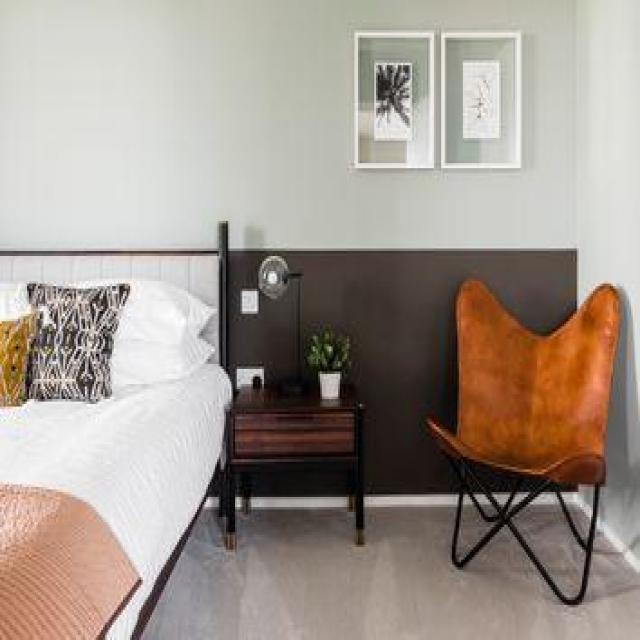Wall: (0, 2, 575, 249), (142, 496, 640, 638), (578, 0, 640, 560), (517, 496, 582, 589), (460, 505, 486, 548)
